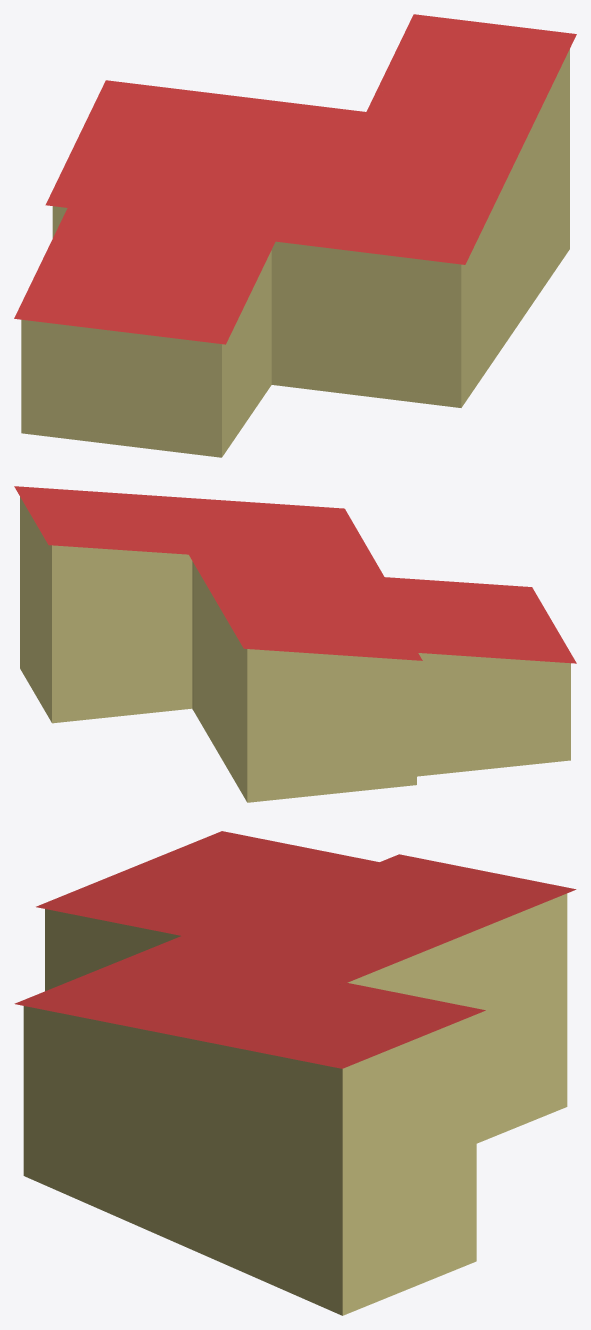
3 views of the same model, one above another, from view 1: azimuth 30°, elevation 25°; view 2: azimuth 150°, elevation 25°; view 3: azimuth 270°, elevation 25° (orthographic). The views are drawn at different scales.
Size of the model in its own units: 30.67 by 20.71 by 10.19.
